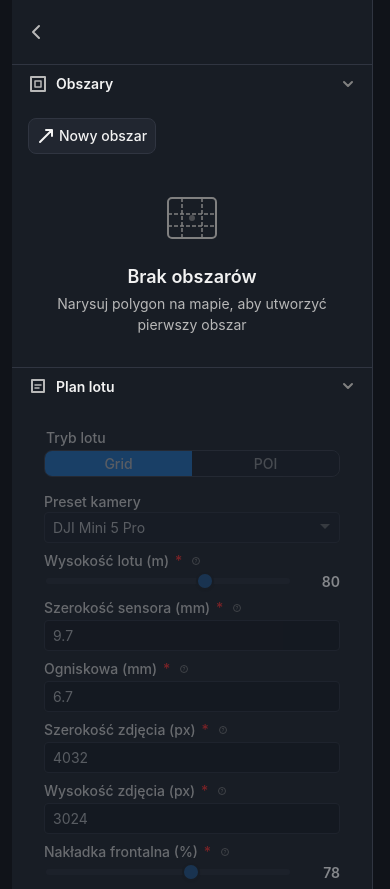
Test case: SidePanelComponent › section headers › should toggle section visibility when section header is clicked
What coordinates should you click on to do the following:
click the button with class "side-panel__section-header" showing "Obszary"
I would click on:
 (85, 84)
Its box is left=12, top=65, right=372, bottom=102.
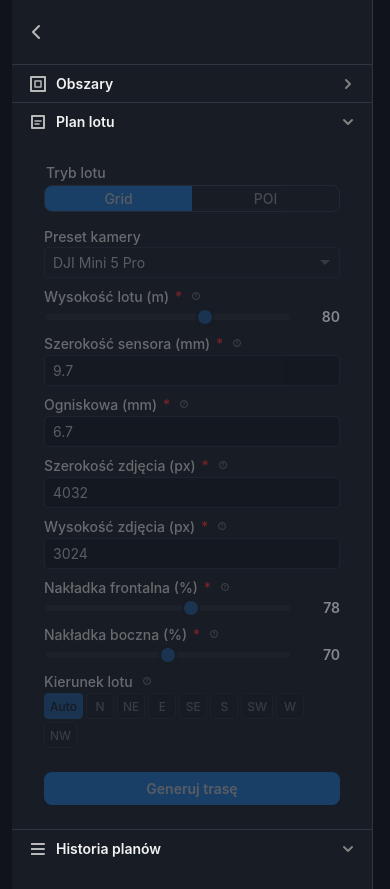
Result: the button with class "side-panel__section-header" is collapsed at left=12, top=65, right=372, bottom=102
